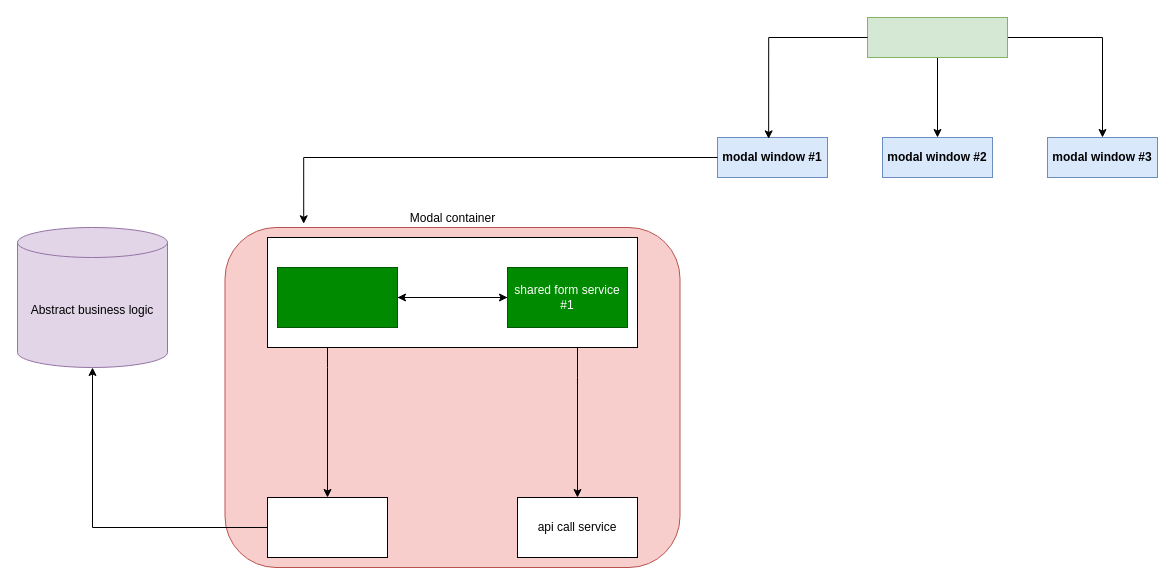
Some shapes in this 1175 by 585 pixel diagram are drawn without their labels. The shapes that lost their labels are listed below. From the top down, each one's box as (x1, y1, x2, y2) in pixels, then its label:
(866, 16, 1008, 58): main routing file .ts
(276, 266, 398, 328): shared form #1
(266, 236, 638, 348): modal component
(266, 496, 388, 558): modal service
